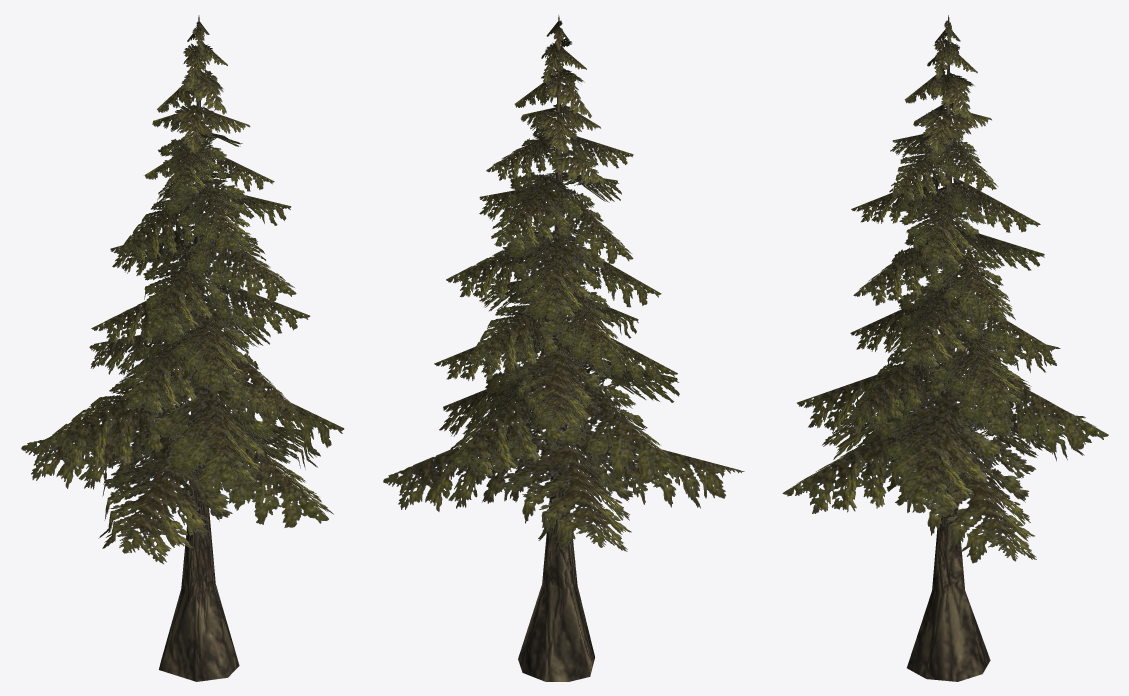
File: Scene_Tree_07.FBX
The picture shows the model from 3 angles, left to right: view 1: azimuth 30°, elevation 25°; view 2: azimuth 150°, elevation 25°; view 3: azimuth 270°, elevation 25°; orthographic projection.
Visible parts, largest first — view 1: Scene_Tree_07; view 2: Scene_Tree_07; view 3: Scene_Tree_07.
Part boxes in pixels (box(x1,y1,x2,y2)): Scene_Tree_07: box(21, 15, 344, 681); Scene_Tree_07: box(383, 15, 744, 681); Scene_Tree_07: box(782, 15, 1108, 681).
Size of the model in its own units: 3.7 by 7.74 by 3.66.
